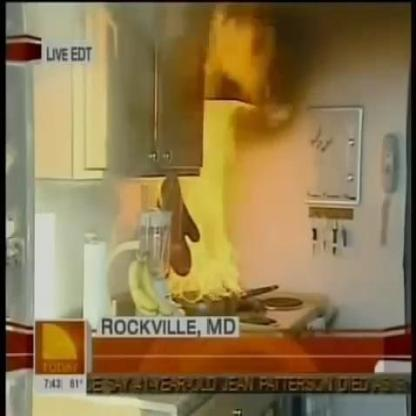fire: (158, 4, 272, 304)
